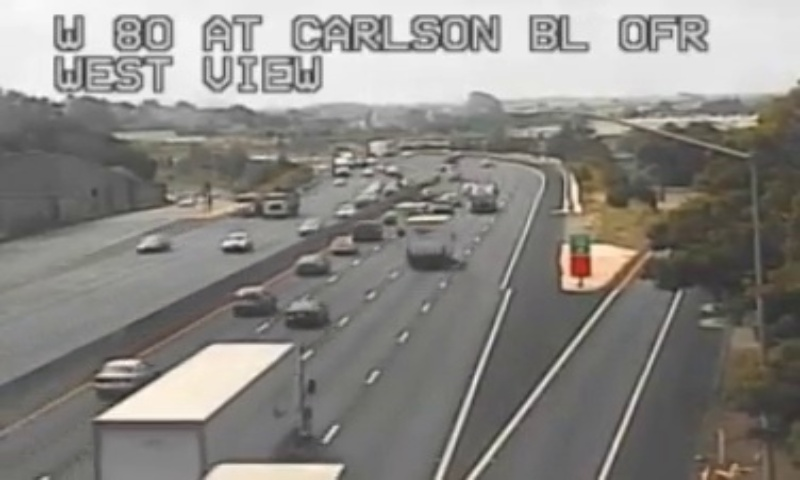car: (95, 359, 153, 396), (284, 302, 327, 329), (231, 288, 274, 315), (295, 257, 327, 275)
small-truck: (406, 214, 453, 264)
truck: (95, 341, 304, 480)
